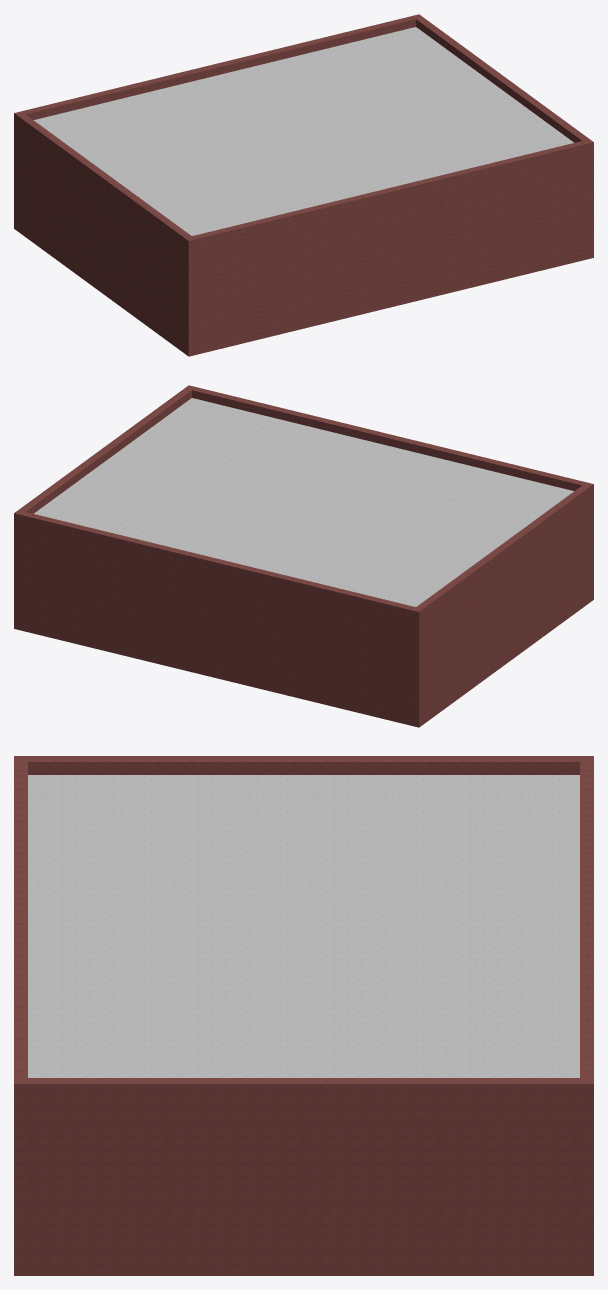
The model's file is Pre_ozonation_Contact_Tank.glb.
3 views of the same model, one above another, from view 1: azimuth 30°, elevation 25°; view 2: azimuth 150°, elevation 25°; view 3: azimuth 270°, elevation 25° (orthographic). The views are drawn at different scales.
Visible parts, largest first — view 1: Floor1; view 2: Floor1; view 3: Floor1.
Boxes of the visible parts, <box> form: Floor1: <box>14,14,593,356</box>; Floor1: <box>14,385,593,727</box>; Floor1: <box>14,756,593,1275</box>.
Size of the model in its own units: 22 by 6 by 16.44.
2 materials, 2 textured.
